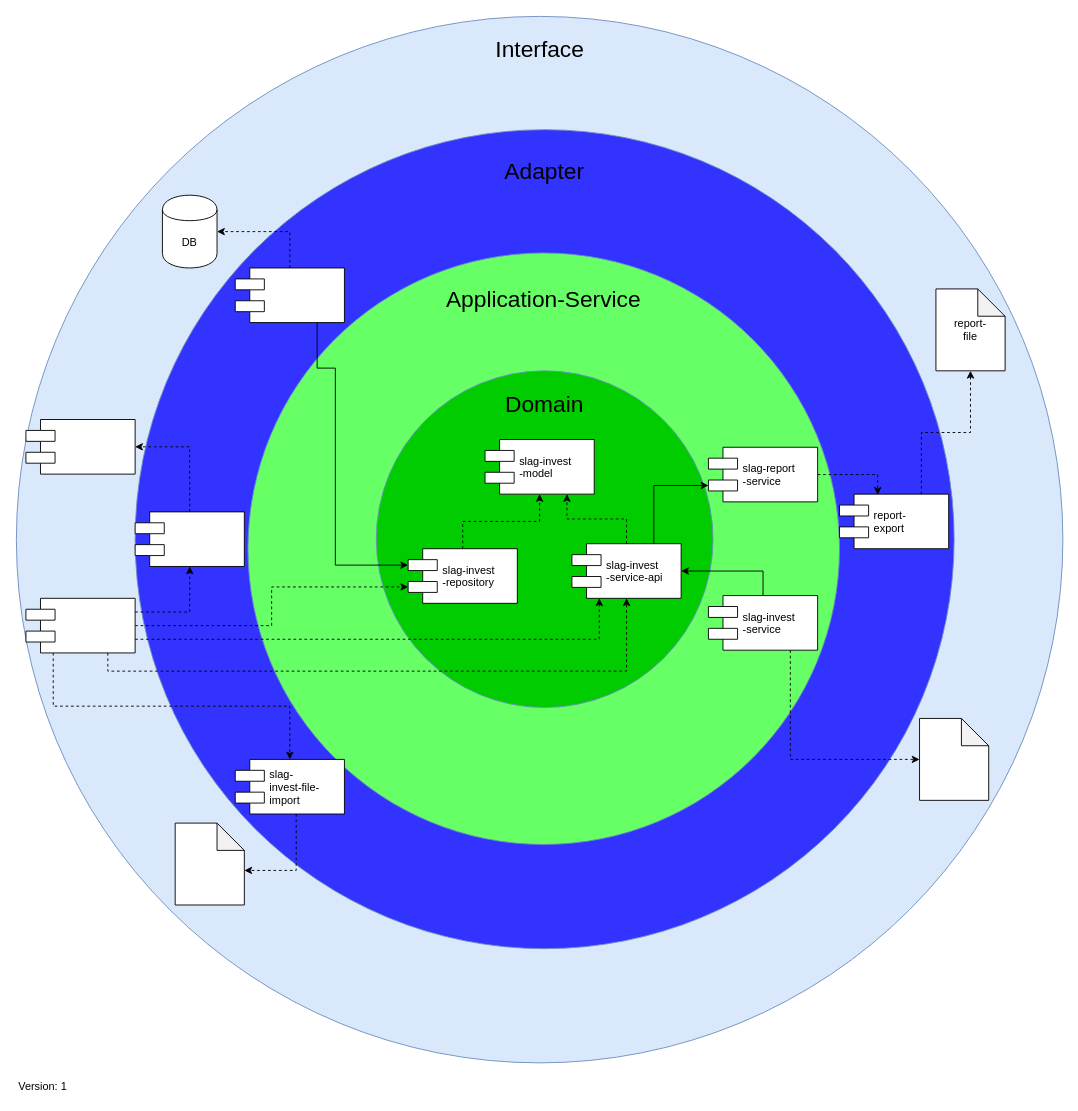
Image size: 1078x1111. Some labels were removed from this diagram. The shapes that lost their labels are listed below. From the top down, each one's box as (x1, y1, x2, y2) in pixels, then its label:
(234, 267, 344, 323): slag-invest -data
(25, 419, 135, 474): alphavantage 4j
(134, 511, 244, 566): slag-av- import
(25, 597, 135, 653): slag- invest-cli
(919, 718, 989, 800): file- config
(174, 822, 244, 905): file-cache
